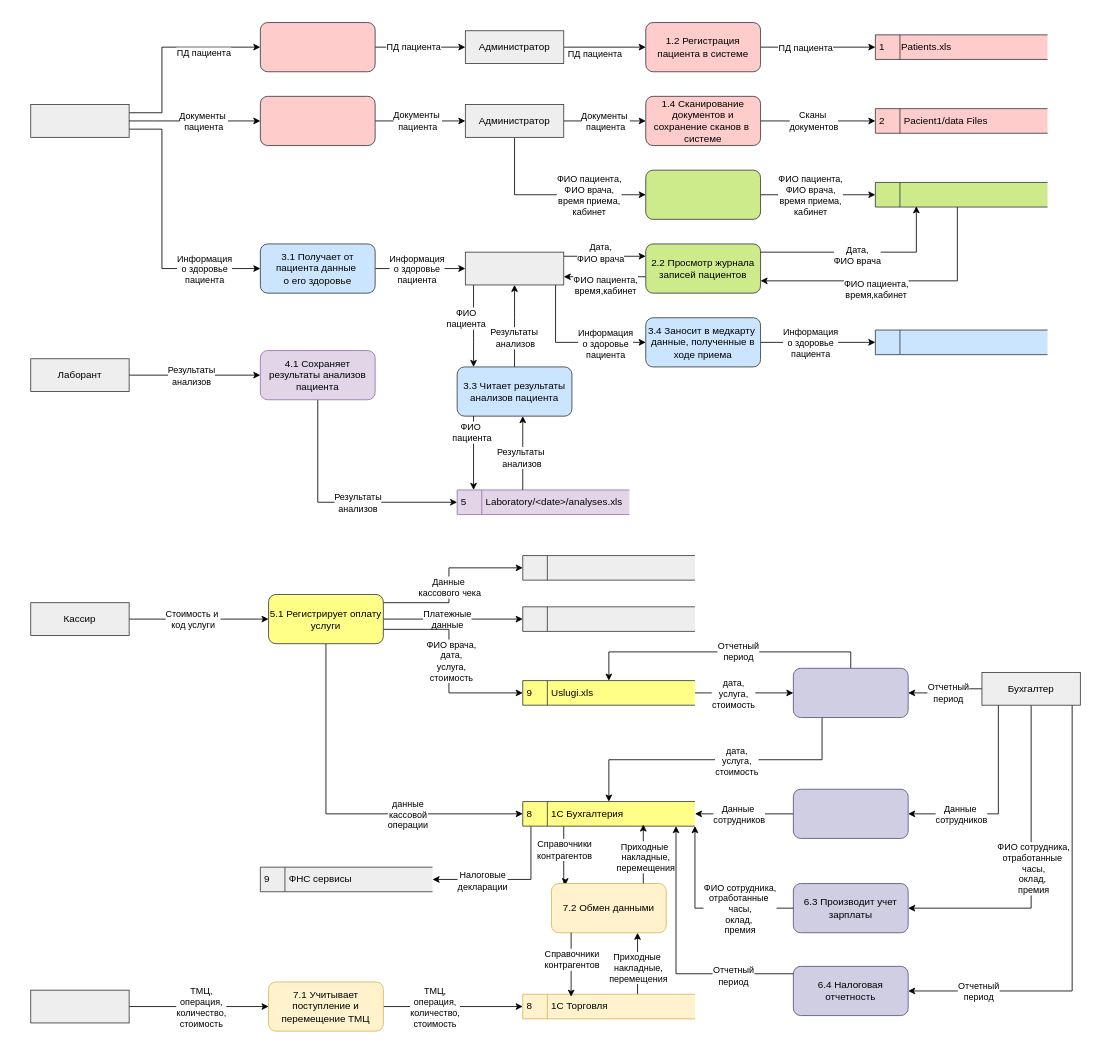
Some shapes in this 1118 by 1061 pixel diagram are drawn without their labels. Here are the shapes that lost their labels. From the top down, the centre of each, then its label:
At point 317,47: "1.1 Получает ПД пациента".
At point 79,120: "Пациент".
At point 317,121: "1.3 Получает ПД пациента".
At point 703,194: "2.1 Запись пациента к врачу".
At point 961,194: "3 Journal.xls".
At point 514,268: "Врач".
At point 961,342: "4 Pacient1/Medkarta.doc".
At point 608,567: "6 Сервис ОФД".
At point 608,618: "7 Процессинг банка".
At point 850,692: "6.1 Производит учет оказанных услуг".
At point 850,813: "6.2 Производит кадровый учет".
At point 79,1006: "Кладовщик".
